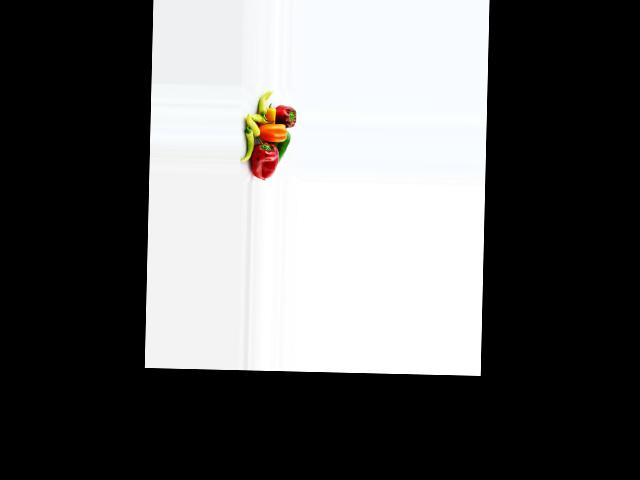bell_pepper: (241, 123, 254, 164)
